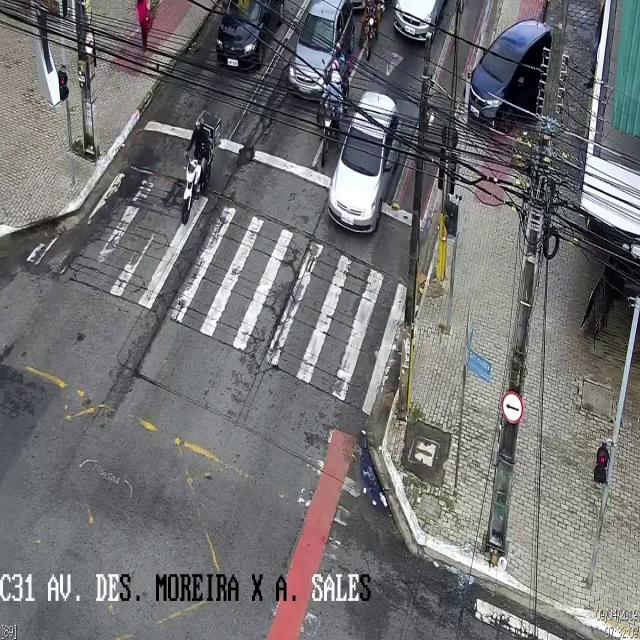Car: (327, 90, 401, 238), (465, 20, 551, 130), (220, 0, 292, 78), (290, 6, 355, 88), (392, 0, 466, 47)
Motorcycle: (182, 117, 212, 223), (320, 62, 344, 167), (358, 1, 382, 64)
